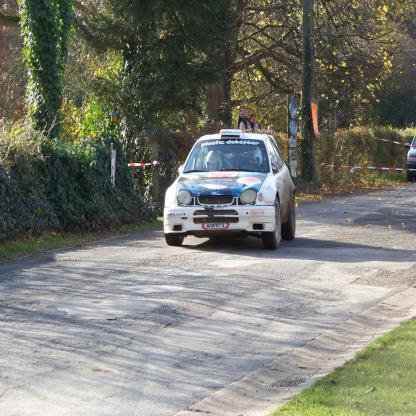Car: (162, 127, 296, 252), (408, 131, 416, 182)
